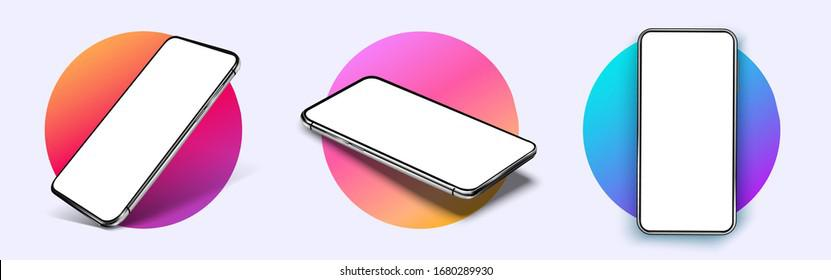mobile: (53, 37, 241, 232), (301, 77, 537, 201), (638, 29, 737, 234)
